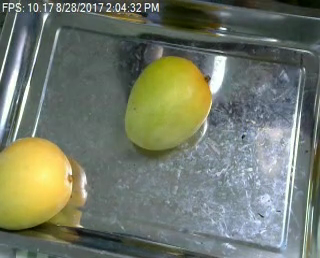Mango: (116, 52, 218, 158), (0, 136, 87, 232)
